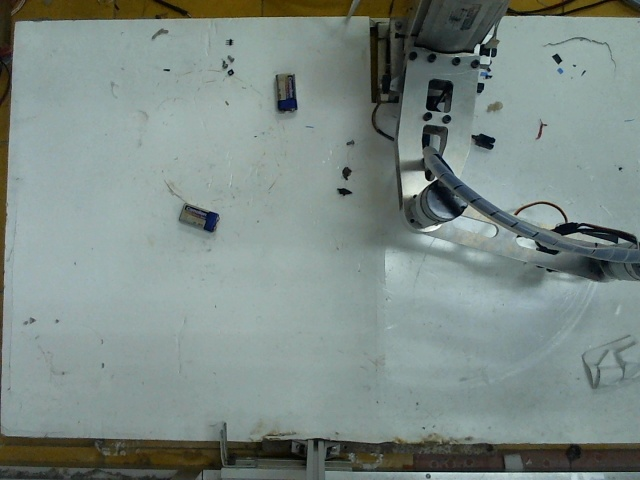battery: (174, 196, 216, 231), (270, 67, 298, 110)
